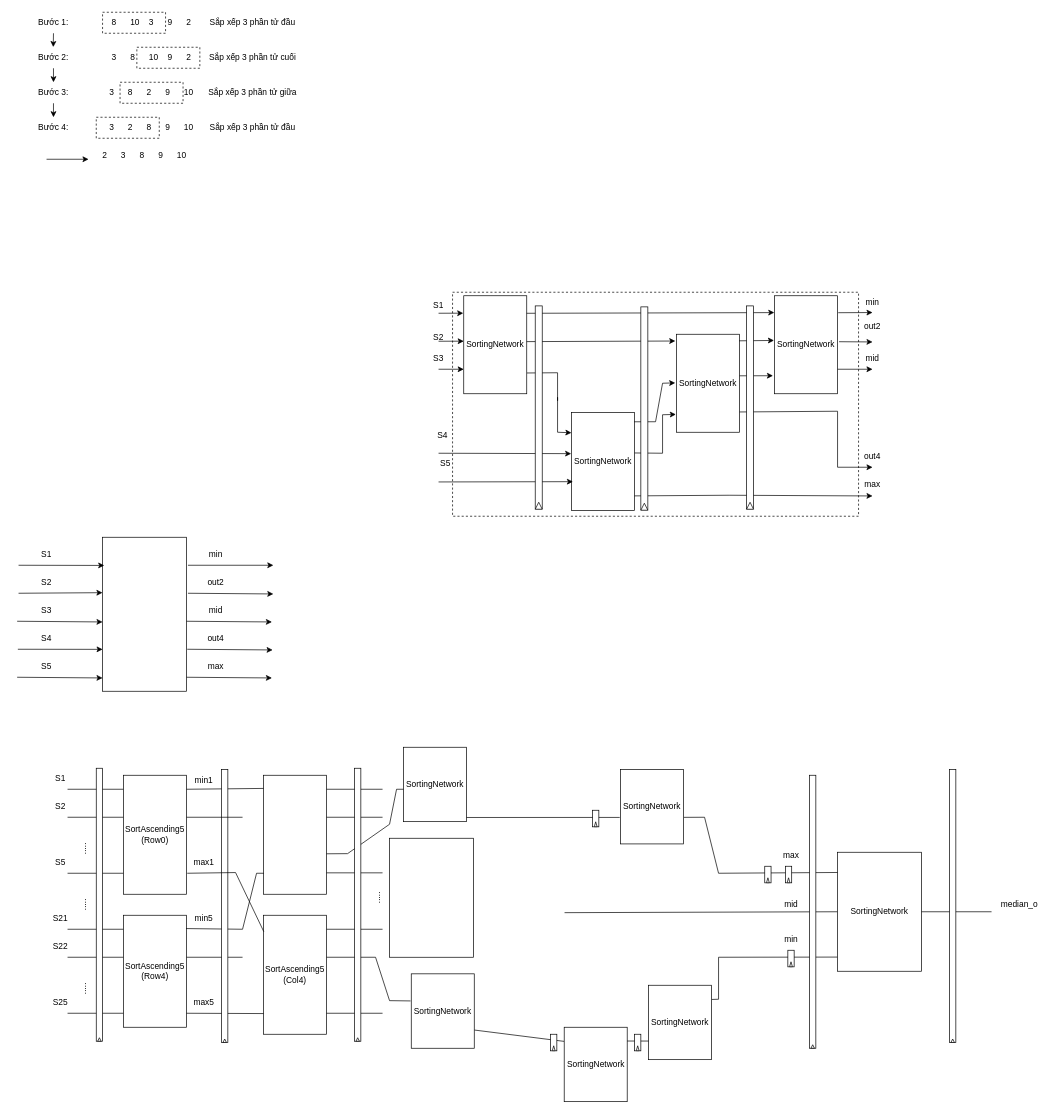
The diagram is 1053 pixels wide and 1114 high, and some of its shapes have lost their labels. The shapes that lost their labels are listed below. From the top down, each one's centre as x and y in pixels, then its label:
At point (144, 614): "SortAscending5".
At point (295, 834): "SortAscending5 (Col0)".
At point (431, 897): "SortAscending5 (Diag1)".
